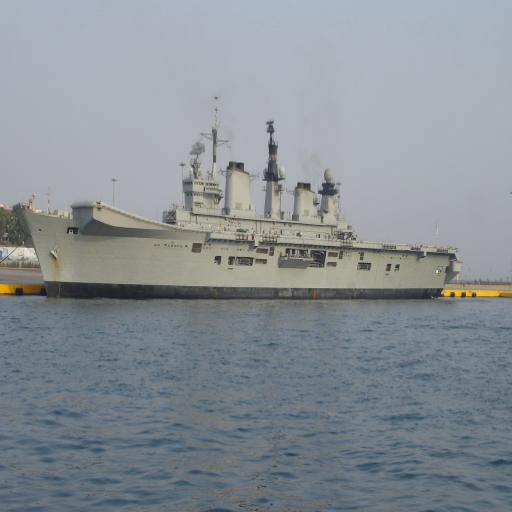Portanaves: (22, 94, 472, 304)
